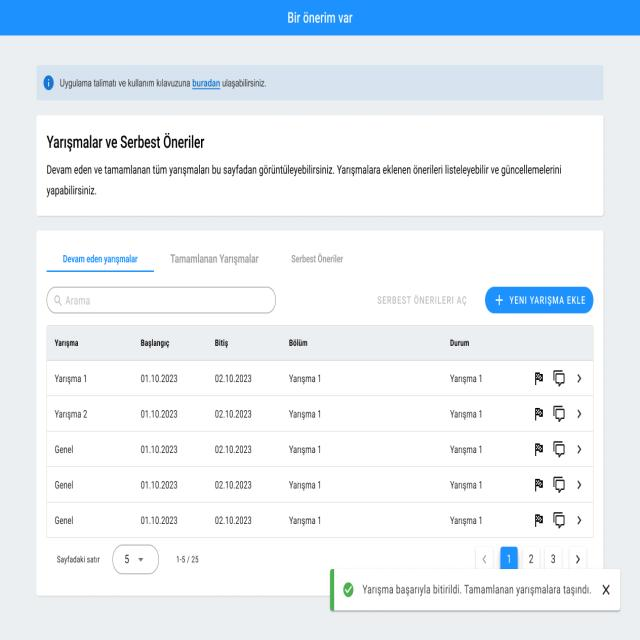QLabel: (45, 163, 563, 197), (45, 132, 206, 150), (58, 77, 191, 89), (282, 8, 356, 26), (167, 252, 260, 266), (60, 251, 140, 266), (508, 294, 588, 308), (288, 252, 349, 266), (192, 77, 221, 90), (222, 80, 267, 88)
VAppBar: (0, 0, 640, 36)
VBtn: (368, 284, 476, 314), (485, 286, 594, 314)
VCard: (36, 229, 604, 598), (36, 114, 605, 218), (35, 64, 605, 102)
VDataTable: (46, 325, 594, 582)
VIcon: (42, 75, 54, 92), (494, 294, 504, 308)
VTab: (44, 245, 158, 272), (163, 245, 264, 269), (272, 246, 360, 268)
VTabs: (41, 237, 593, 275)
VTextField: (46, 286, 276, 314)
